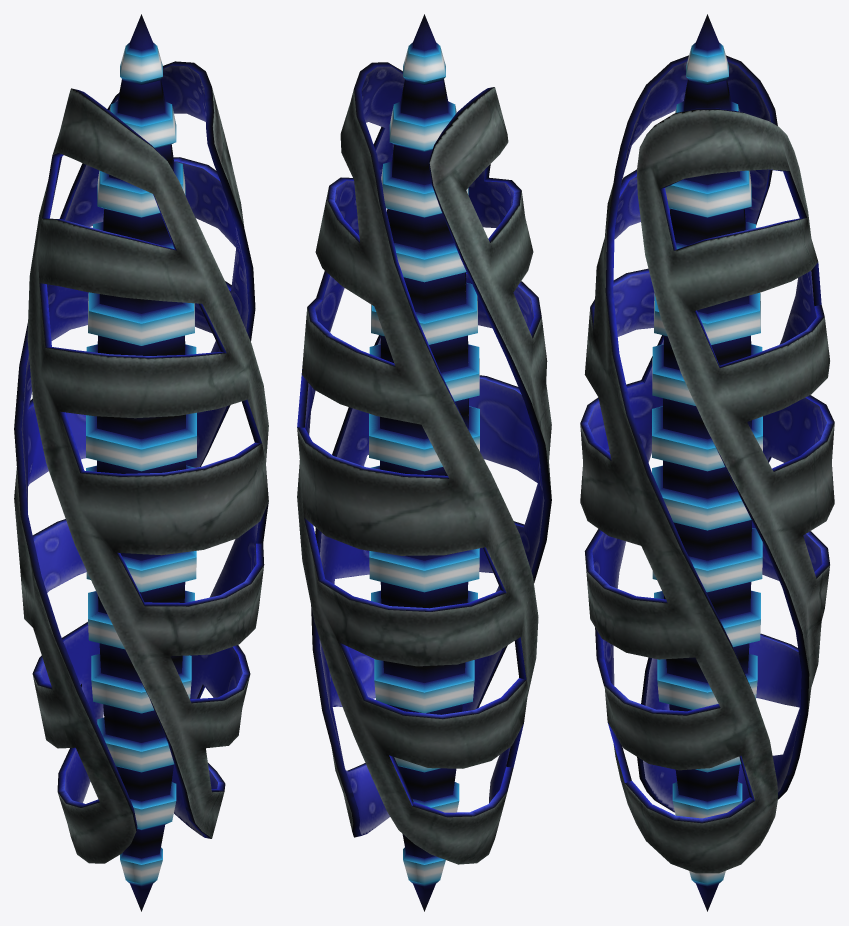
The model's file is Weapon02.FBX.
3 views of the same model, side by side, from view 1: azimuth 30°, elevation 25°; view 2: azimuth 150°, elevation 25°; view 3: azimuth 270°, elevation 25° (orthographic).
Visible parts, largest first — view 1: Weapon02; view 2: Weapon02; view 3: Weapon02.
Boxes of the visible parts, x1,y1,x2,y2 form: Weapon02: (14, 14, 268, 911); Weapon02: (297, 14, 551, 911); Weapon02: (580, 14, 834, 911).
Bounding box in the file's own units: 11.49 × 45.56 × 11.71.
